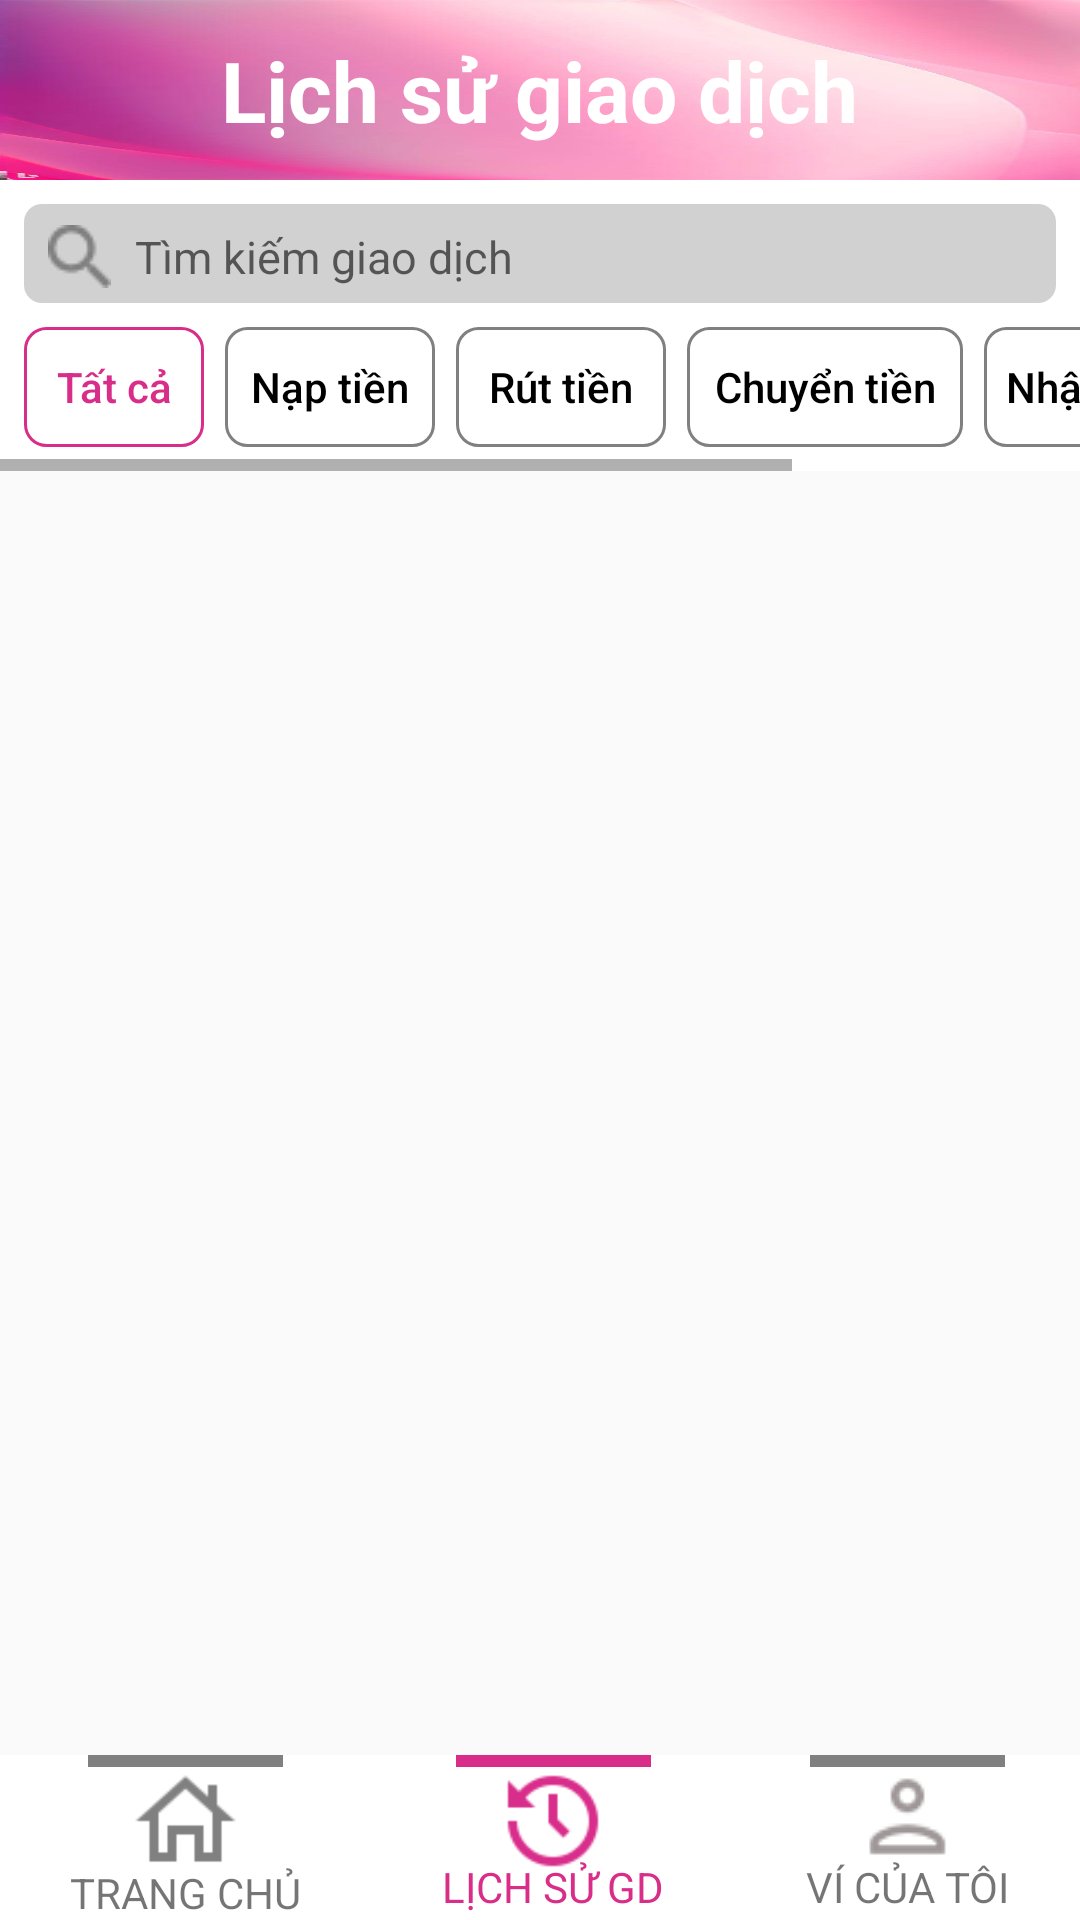

Screen size 1080×1920. Icon name, then its center in pixels as point (x, y):
user: point (907, 1822)
